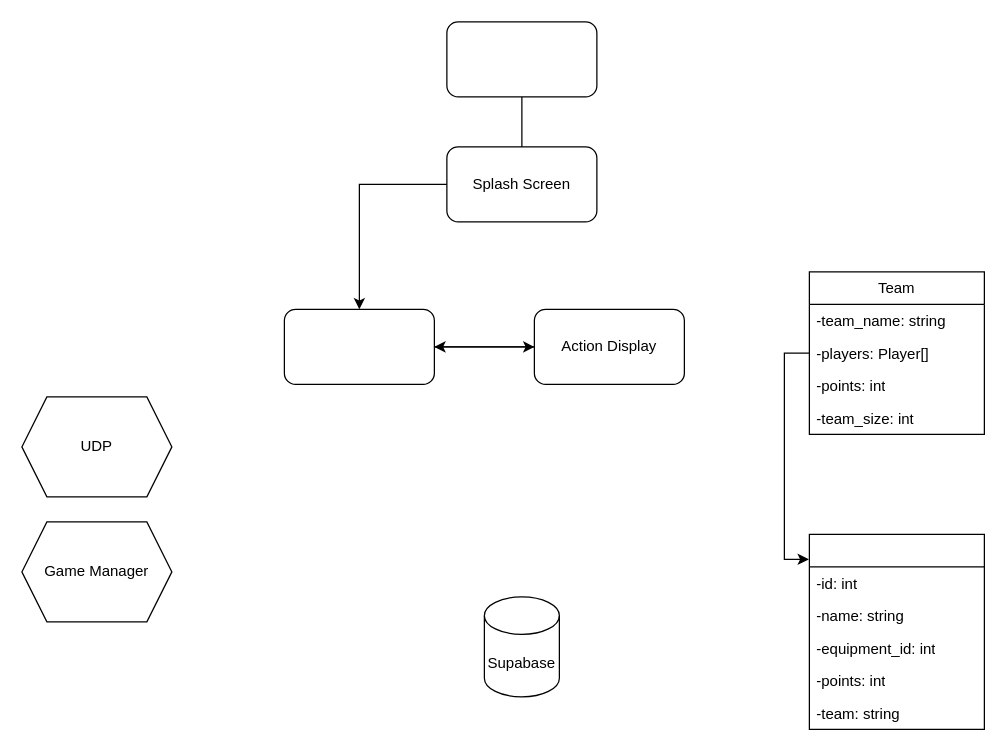
Some shapes in this 1006 by 755 pixel diagram are drawn without their labels. Here are the shapes that lost their labels. From the top down, the box of each, then its label:
(446, 21, 597, 97): App
(283, 308, 434, 384): Player Entry
(808, 533, 984, 729): Player
